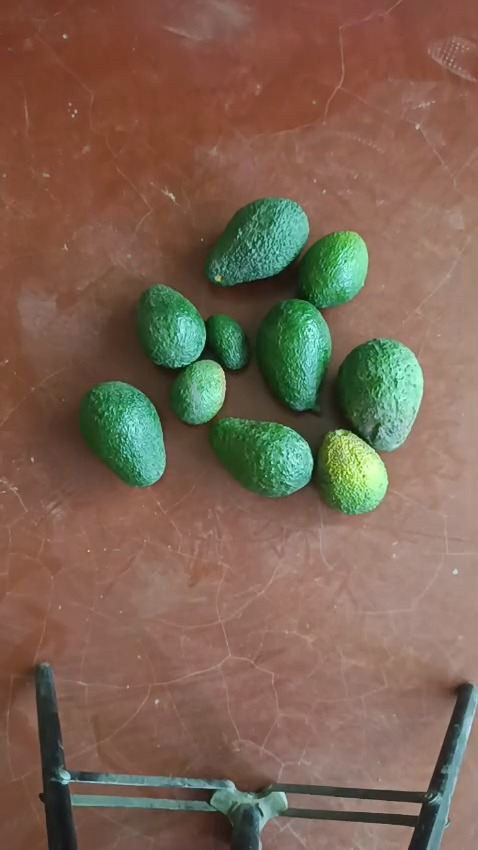Primera: (336, 338, 423, 450), (204, 197, 309, 287), (80, 385, 166, 490), (254, 299, 332, 412), (209, 416, 313, 497)
Segunda: (314, 427, 389, 513), (135, 283, 207, 368), (296, 232, 368, 310)
Tercera: (168, 359, 226, 425), (205, 313, 250, 372)
